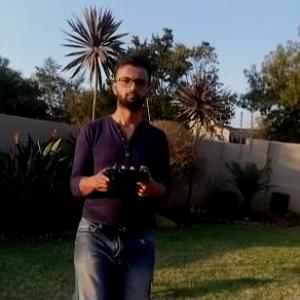follow: (66, 48, 172, 299)
